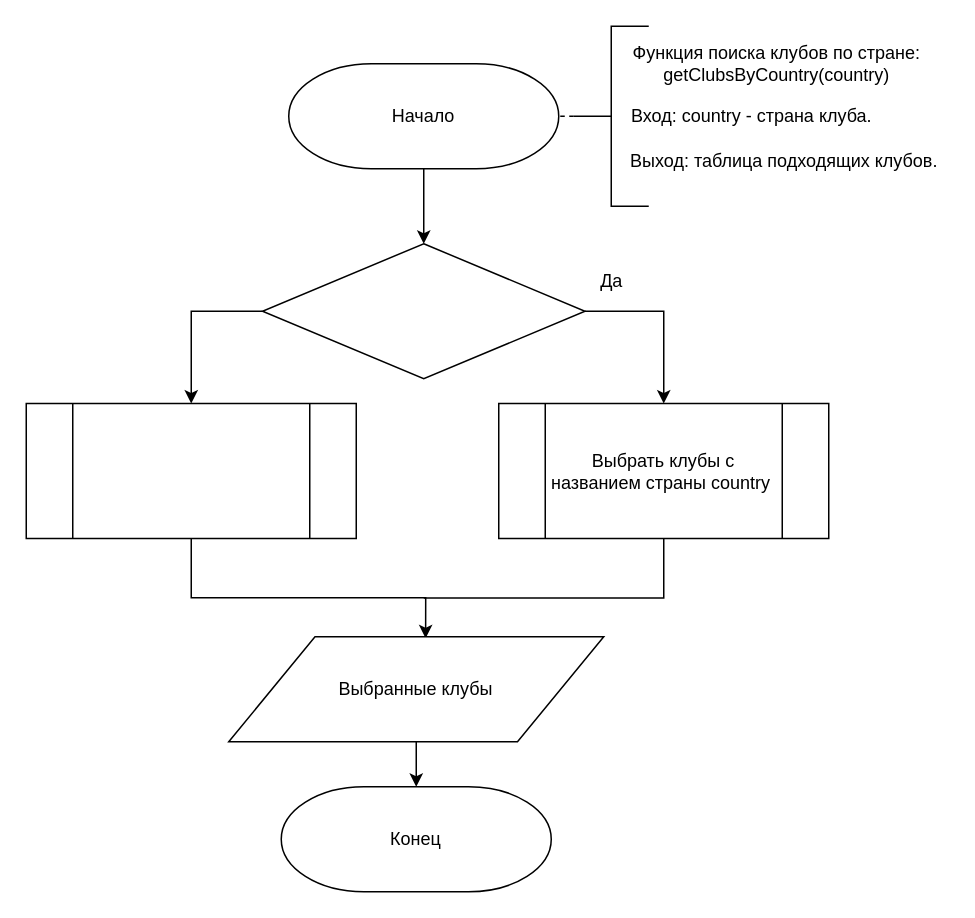
Some shapes in this 975 by 918 pixel diagram are drawn without their labels. The shapes that lost their labels are listed below. From the top down, each one's box as (x1, y1, x2, y2) in pixels, then its label:
(261, 242, 585, 379): country не пустая строка?
(25, 402, 356, 538): Выбрать все клубы
